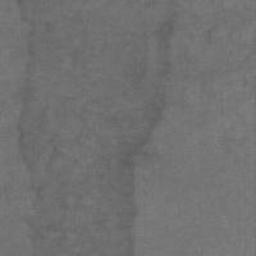Water spot: (18, 0, 180, 256)
